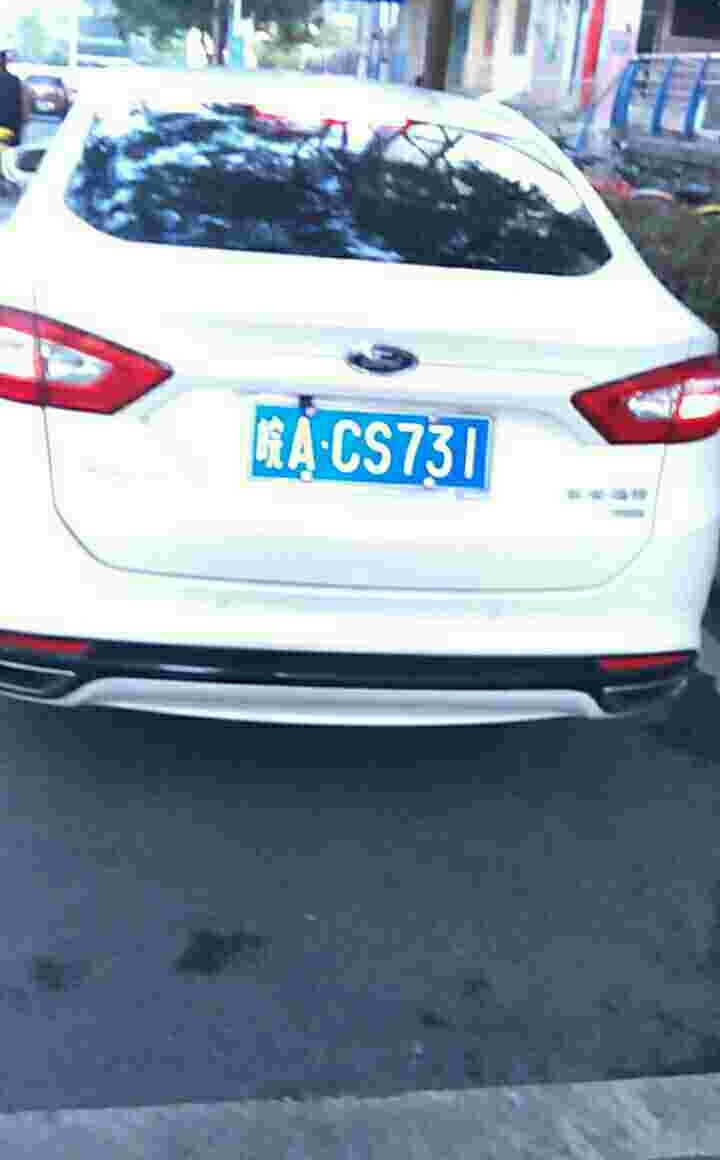plate: (251, 399, 500, 496)
